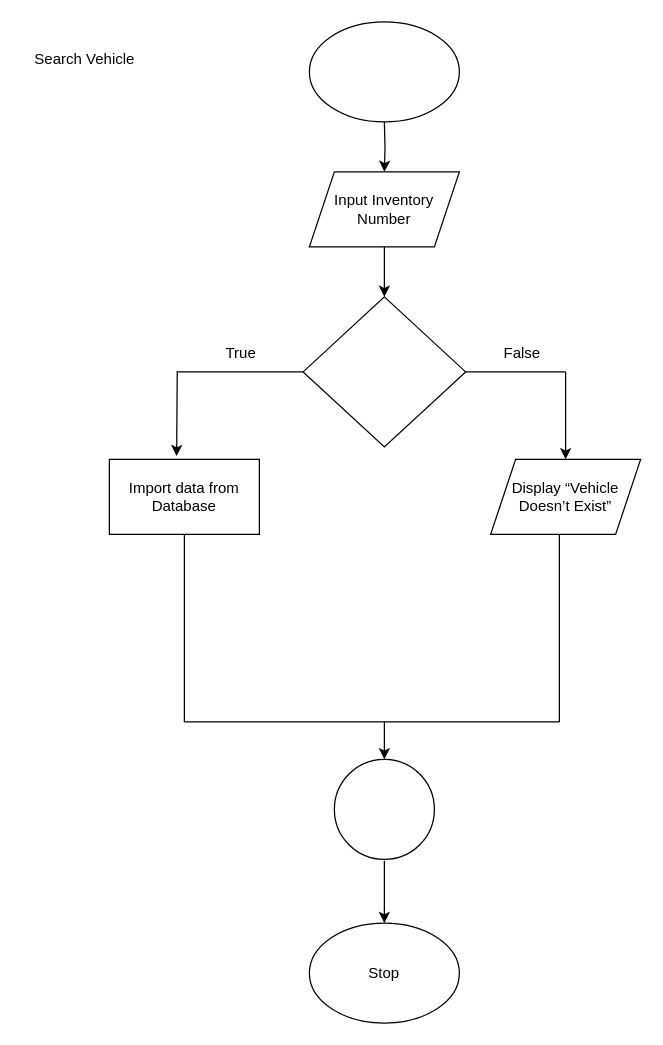
The diagram is 663 pixels wide and 1045 high, and some of its shapes have lost their labels. The centre of each missing label's shape, as x and y in pixels:
"If Vehicle Already Exists" goes at (384,371).
"Start" goes at (383,71).
